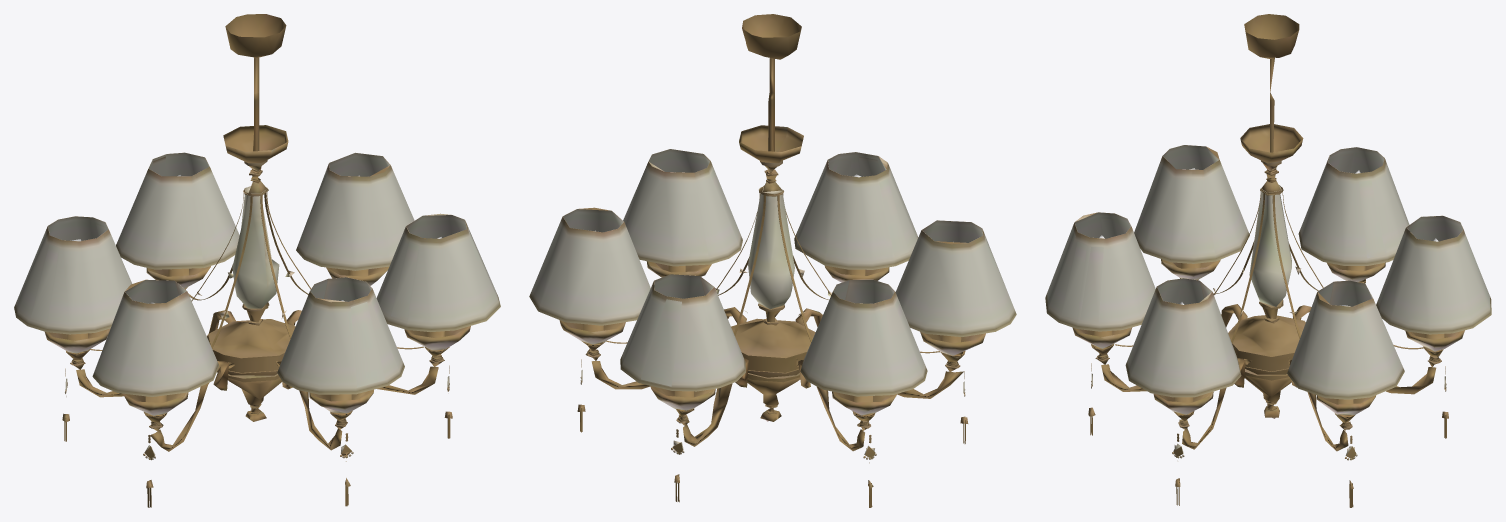
The model's file is ph-chandelier-01.glb.
The picture shows the model from 3 angles, left to right: view 1: azimuth 30°, elevation 25°; view 2: azimuth 150°, elevation 25°; view 3: azimuth 270°, elevation 25°; orthographic projection.
Visible parts, largest first — view 1: Chandelier_01; view 2: Chandelier_01; view 3: Chandelier_01.
Part boxes in pixels (left/top/right/bottom): Chandelier_01: left=14, top=14, right=500, bottom=507; Chandelier_01: left=529, top=14, right=1016, bottom=507; Chandelier_01: left=1045, top=14, right=1491, bottom=507.
Bounding box in the file's own units: 1 × 1 × 0.9912.
Materials: 2 (1 with a texture image).
